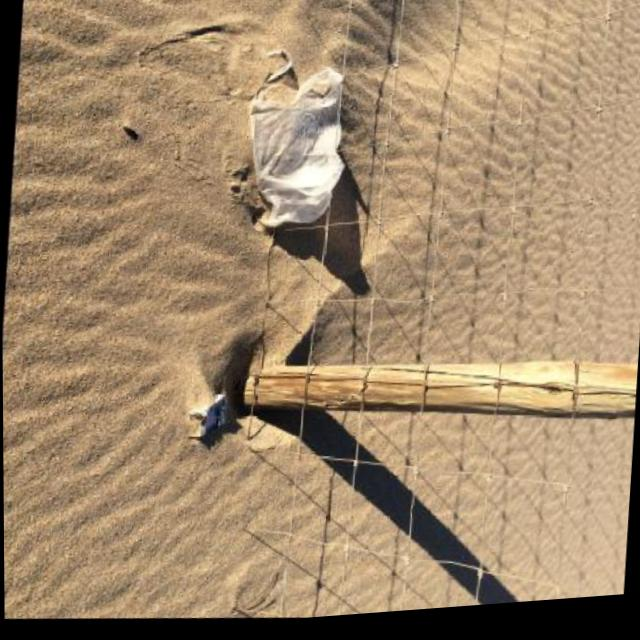cardboard: (184, 391, 230, 441)
plastic: (240, 41, 352, 234)
